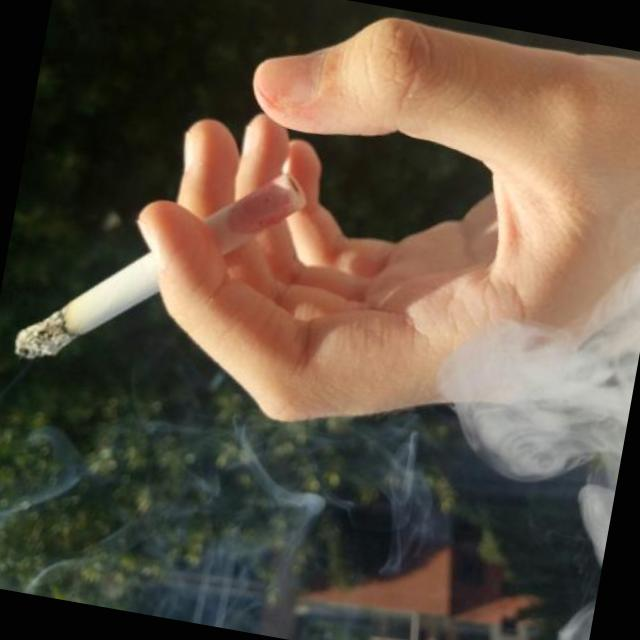smoke: (7, 123, 314, 414)
